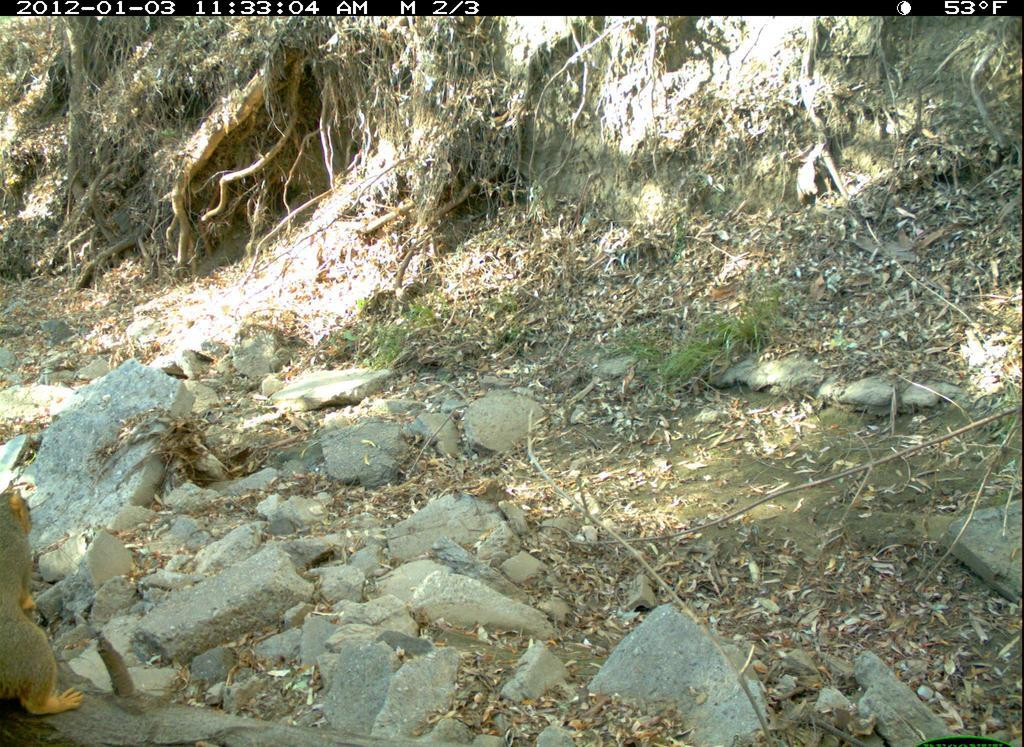squirrel: (3, 486, 89, 725)
